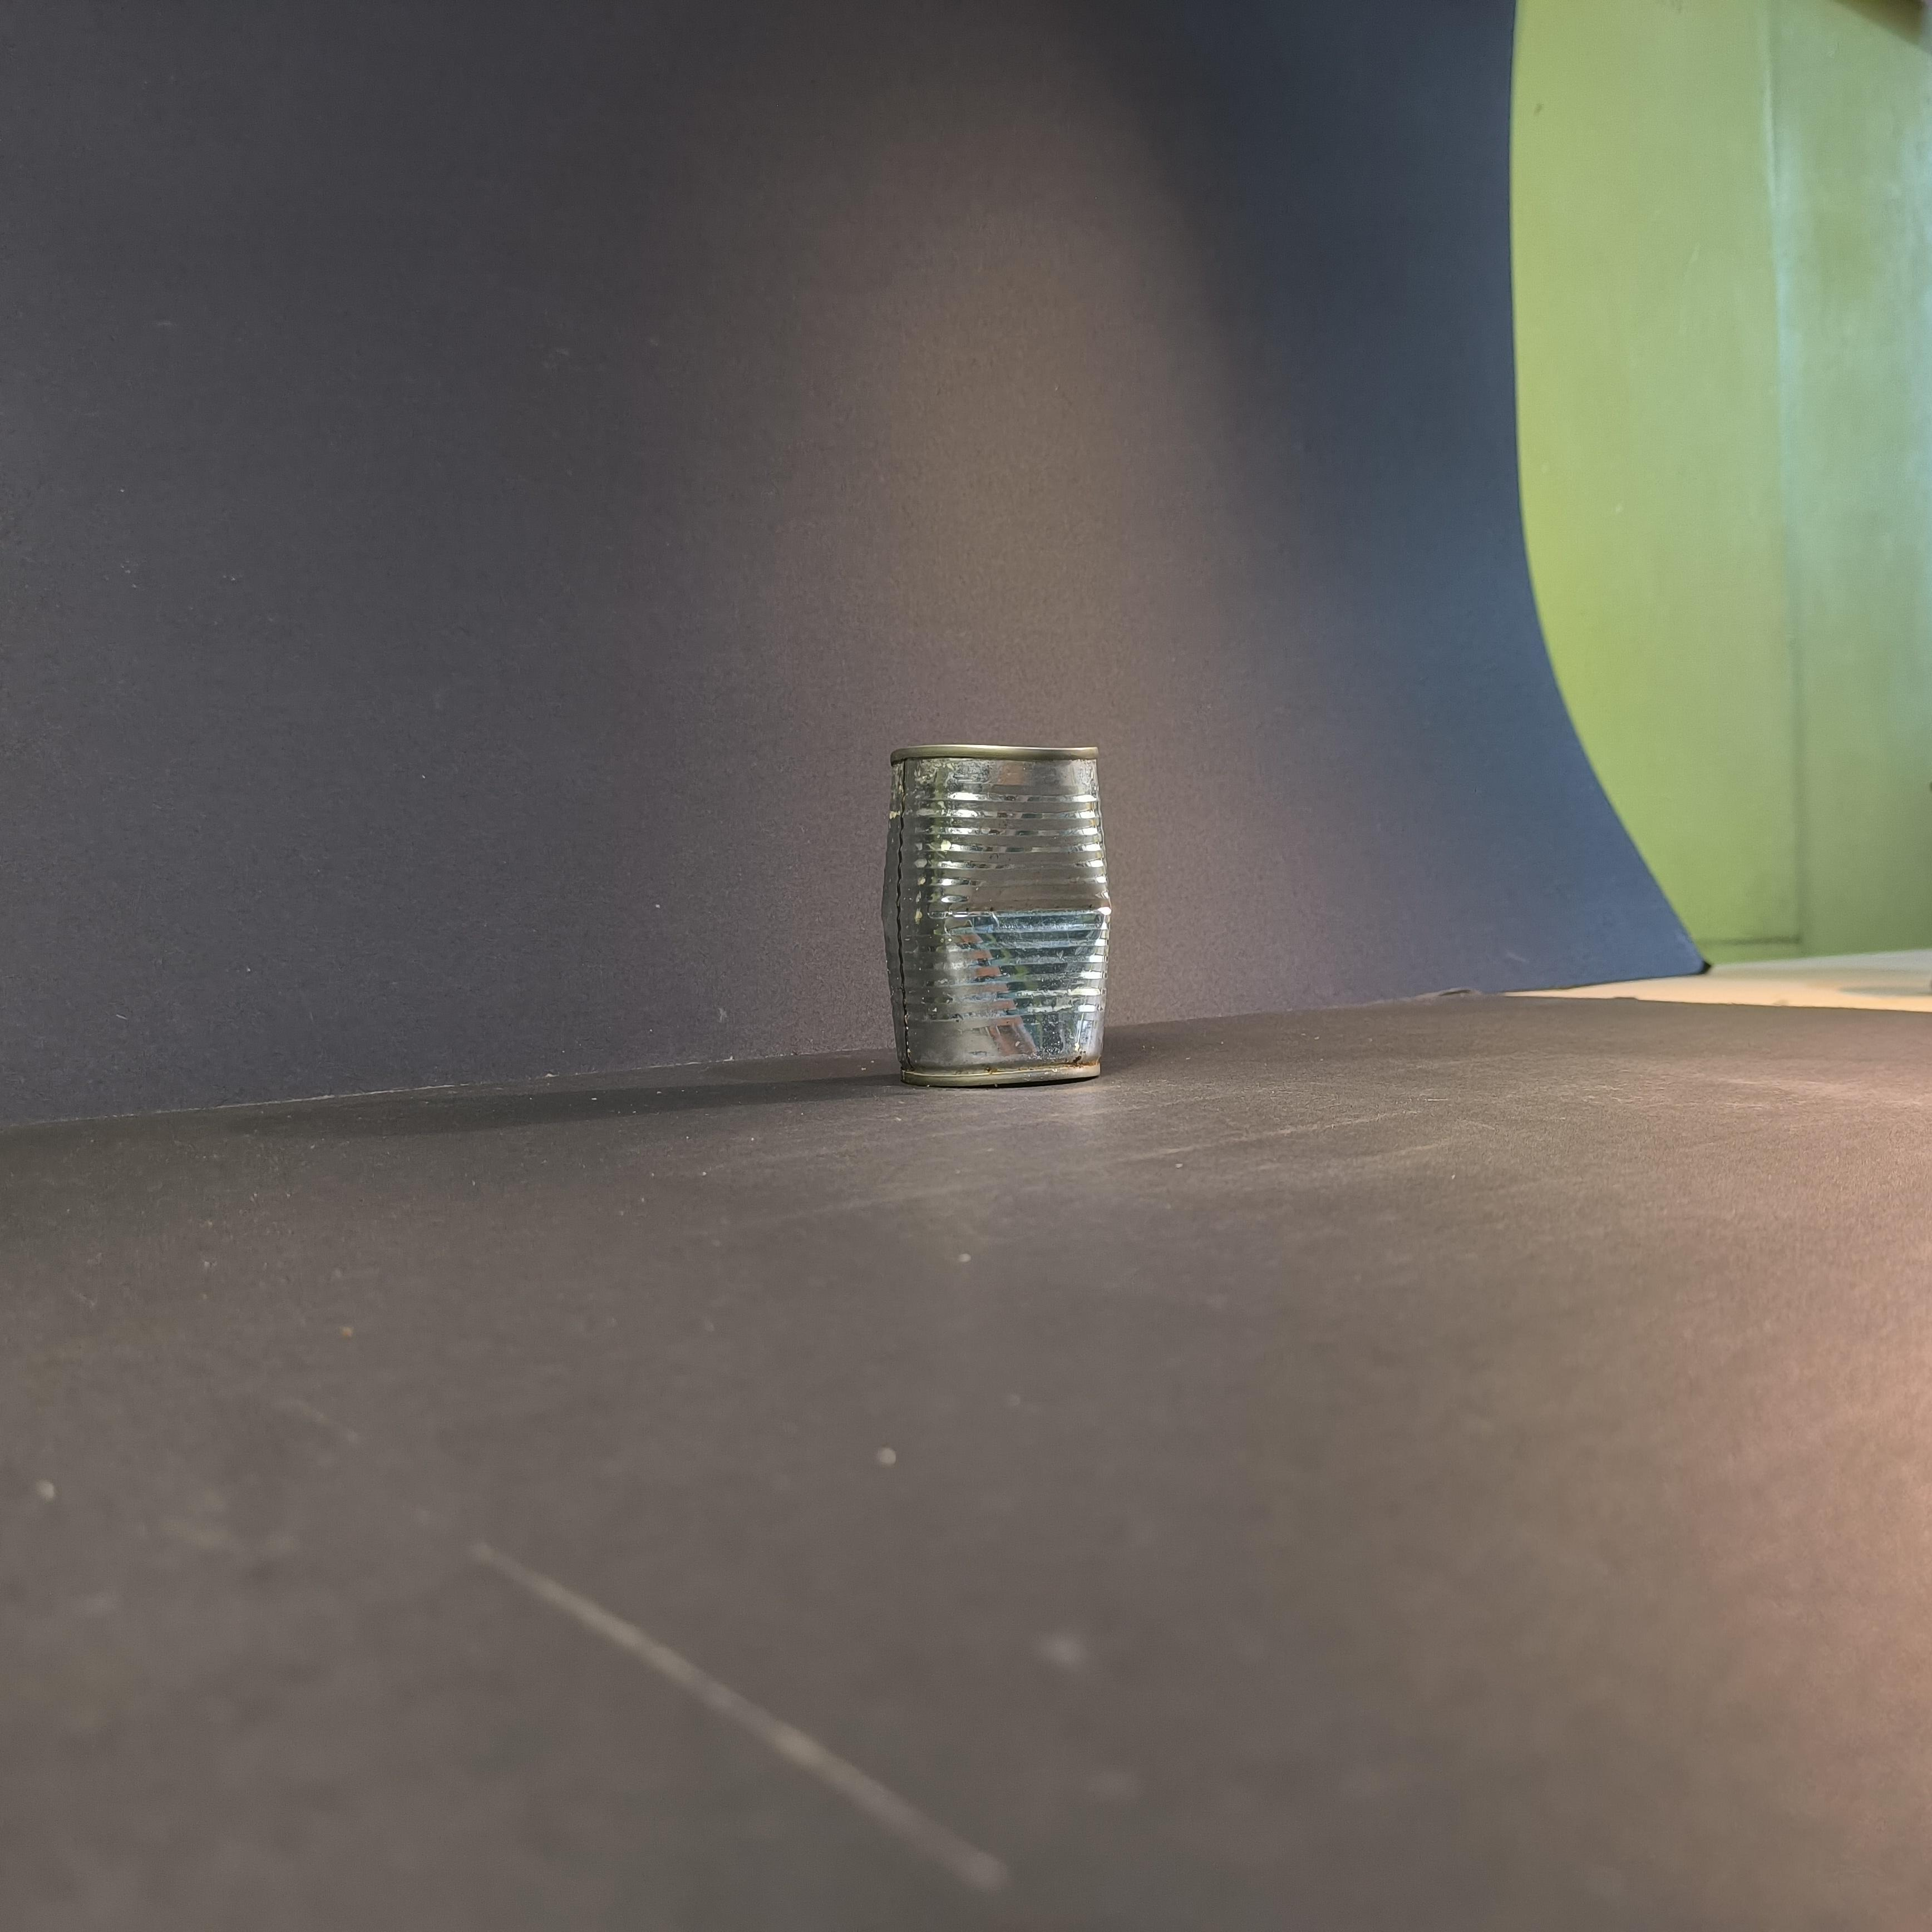Dented: (879, 715, 1138, 1124)
